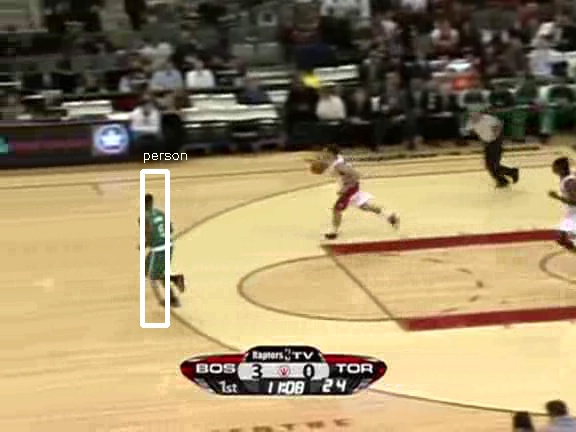person: (144, 203, 178, 284), (143, 203, 177, 284), (145, 203, 179, 284), (144, 202, 178, 283), (144, 204, 178, 285)
target_negative: (145, 165, 409, 413), (85, 42, 153, 429), (280, 408, 514, 426), (516, 294, 535, 361), (333, 365, 366, 388), (535, 389, 554, 398)
